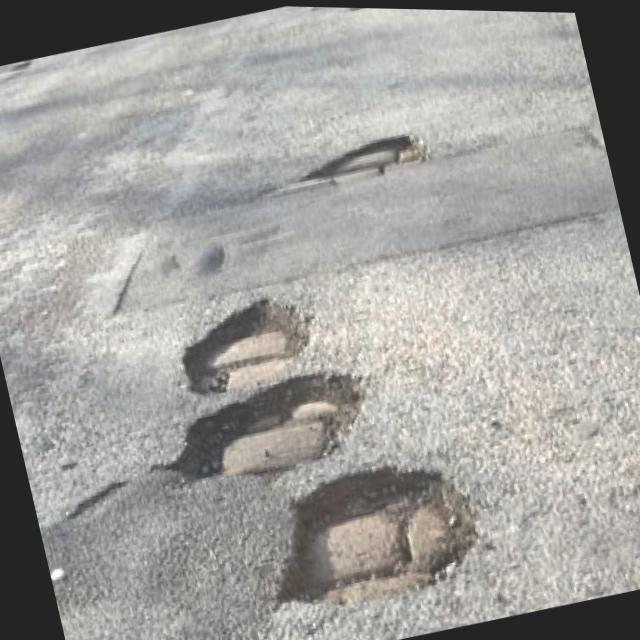Pothole: (282, 460, 476, 609), (179, 368, 366, 476), (181, 298, 311, 395), (308, 133, 422, 177)
